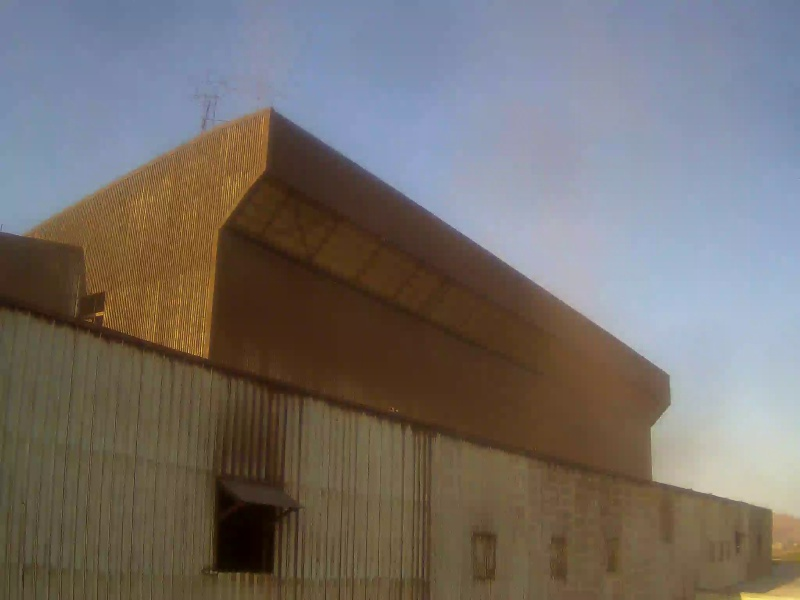Pessimo: (265, 110, 694, 521)
